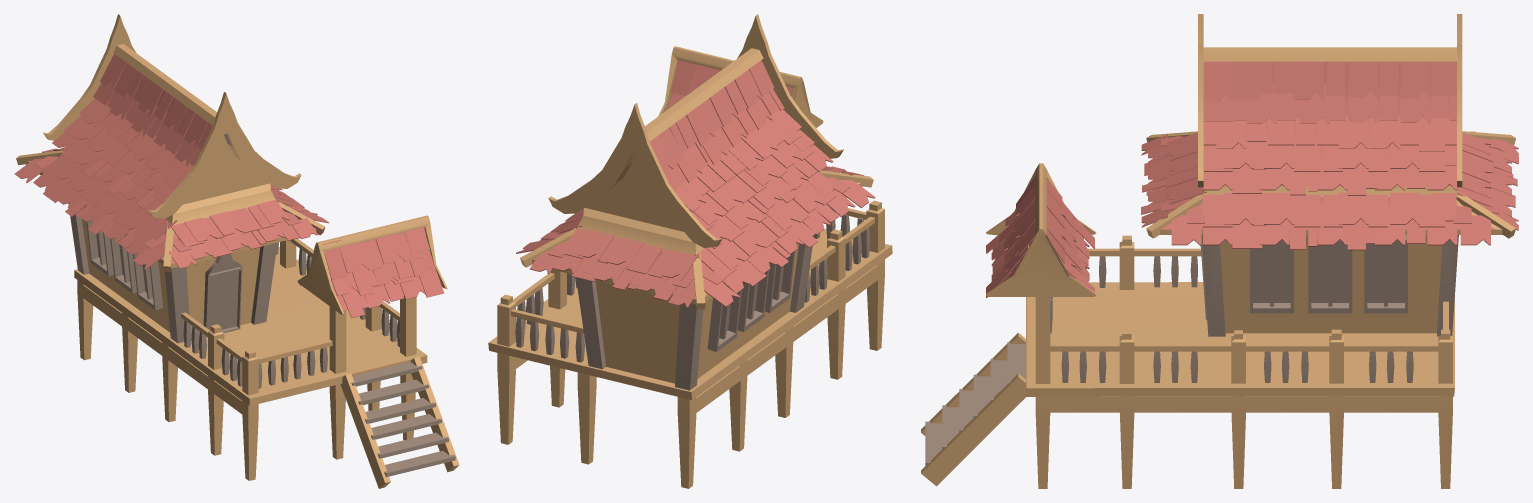
The model's file is house3.fbx.
The picture shows the model from 3 angles, left to right: view 1: azimuth 30°, elevation 25°; view 2: azimuth 150°, elevation 25°; view 3: azimuth 270°, elevation 25°; orthographic projection. The views are drawn at different scales.
Visible parts, largest first — view 1: pCube126; view 2: pCube126; view 3: pCube126.
Boxes of the visible parts, box(x1,y1,x2,y2) form: pCube126: box(14, 14, 459, 488); pCube126: box(488, 14, 892, 488); pCube126: box(921, 14, 1518, 488).
Bounding box in the file's own units: 78.4 × 108 × 145.
